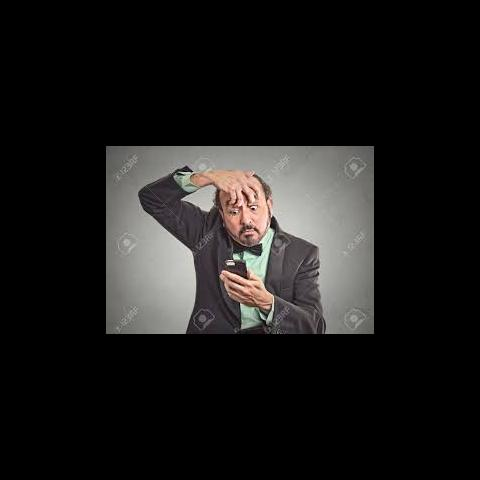opened: (222, 200, 264, 220)
